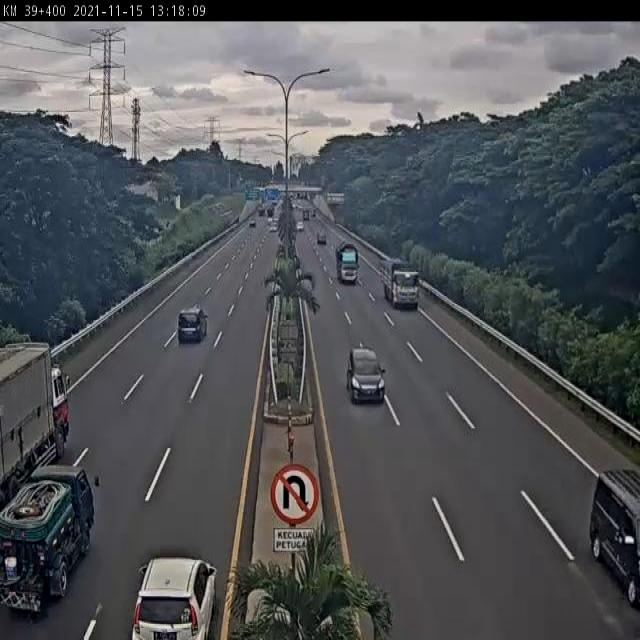Car: (131, 556, 220, 640), (345, 347, 384, 402), (179, 304, 207, 344)
Truck: (0, 460, 99, 617), (0, 337, 70, 487), (379, 259, 421, 307), (336, 242, 358, 285)
Van: (589, 467, 640, 606)
